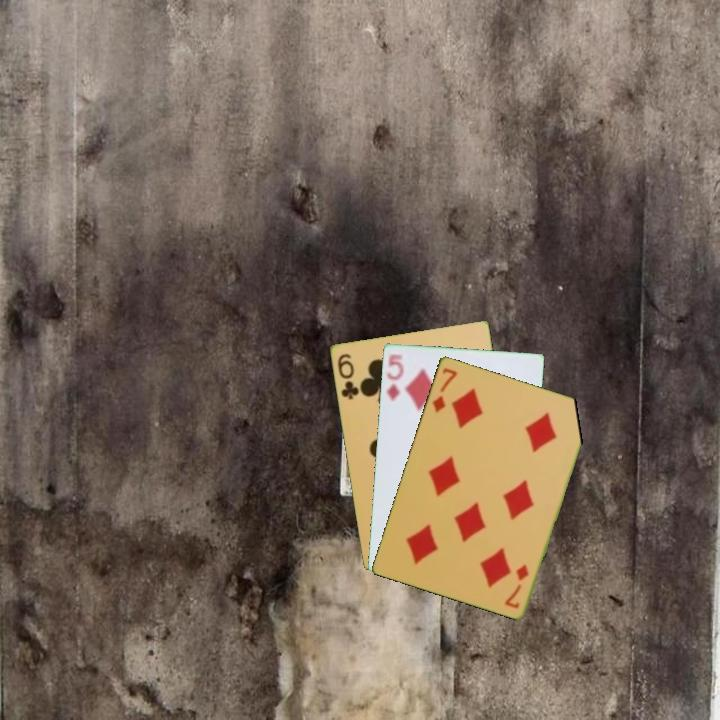5d: (383, 350, 406, 404)
6c: (334, 350, 361, 402)
7d: (428, 364, 460, 415), (502, 560, 532, 611)
